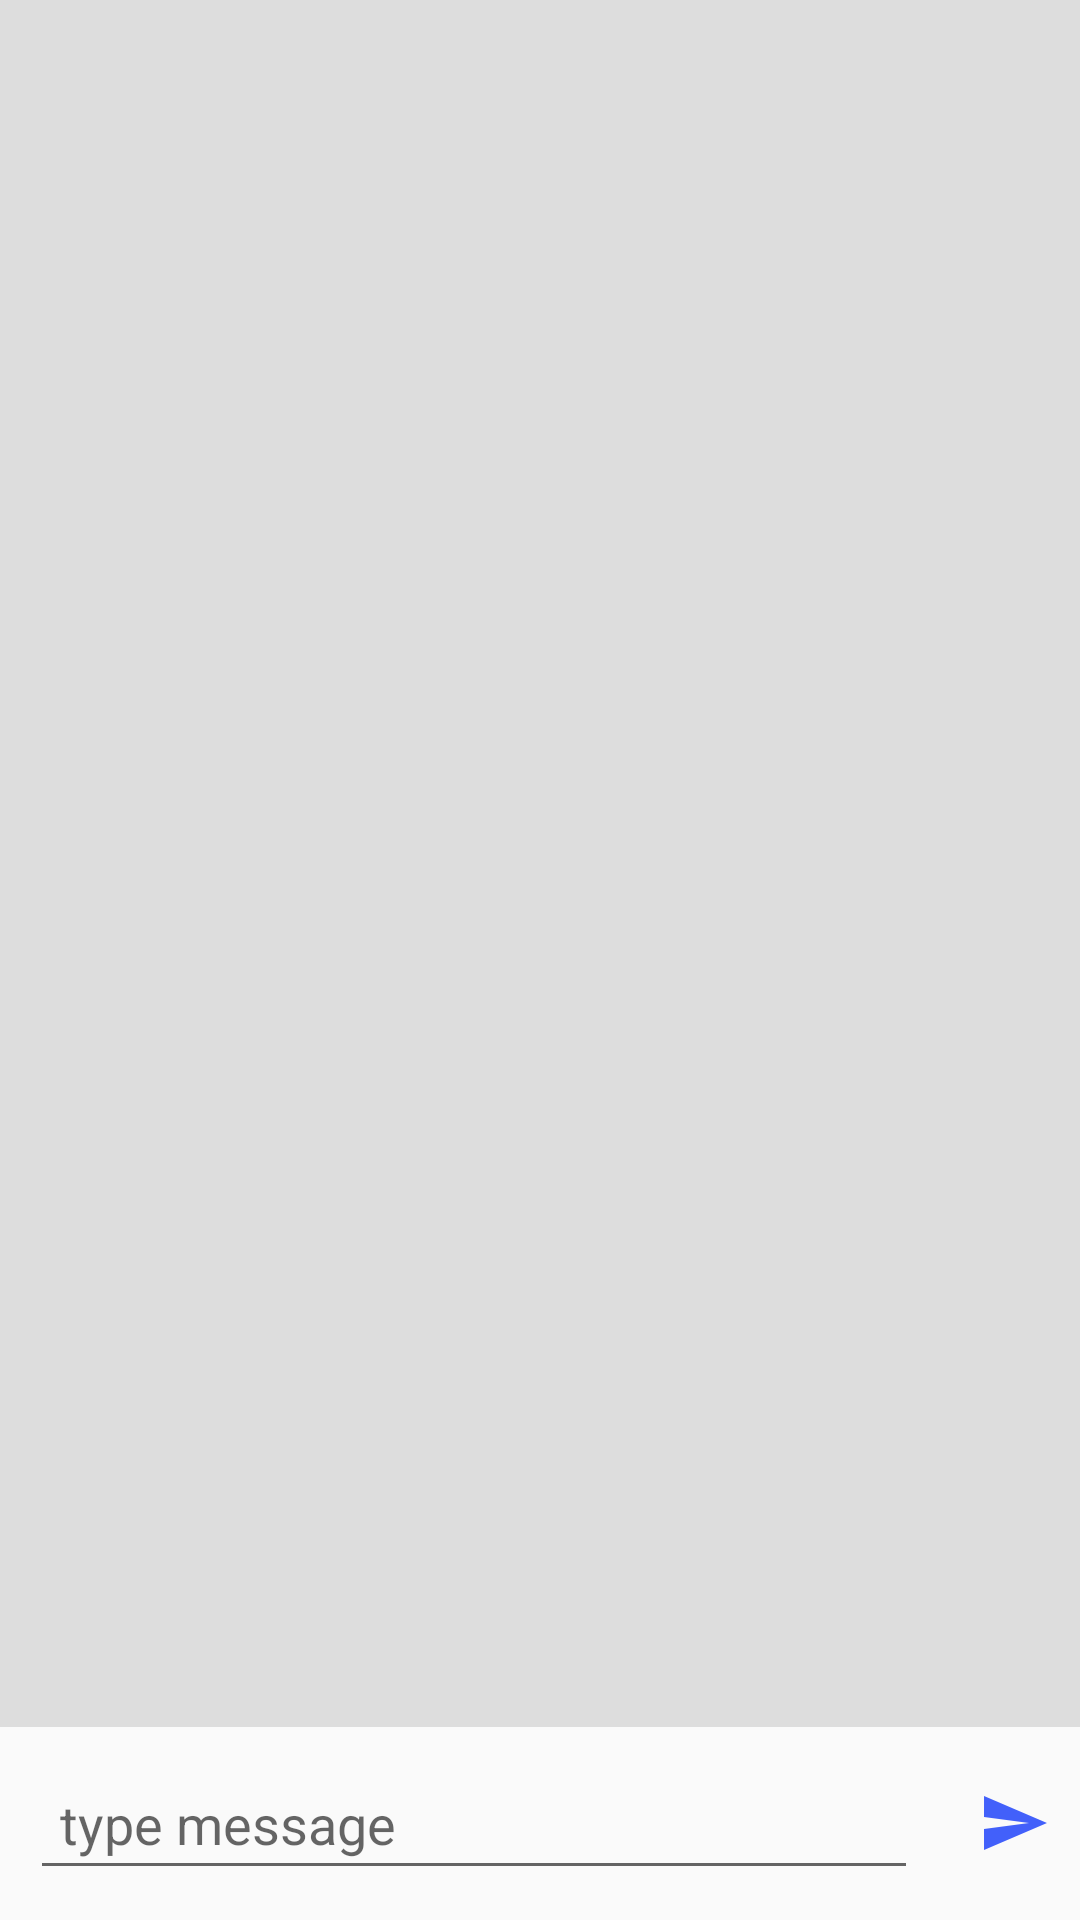

Icons on this 1080×1920 Android screen, each with the point to tap as (x=x, y=y):
send message: (x=1015, y=1823)
